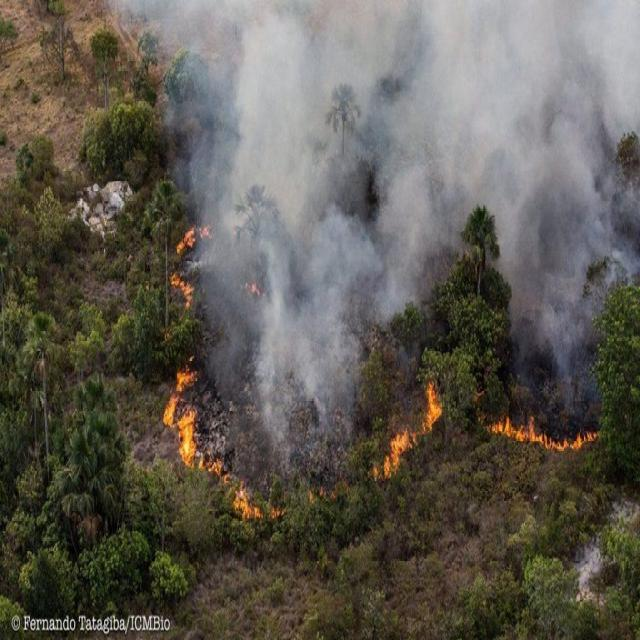Fire: (165, 380, 282, 531), (370, 392, 444, 484), (488, 404, 603, 456), (166, 276, 198, 310), (178, 219, 208, 252)
